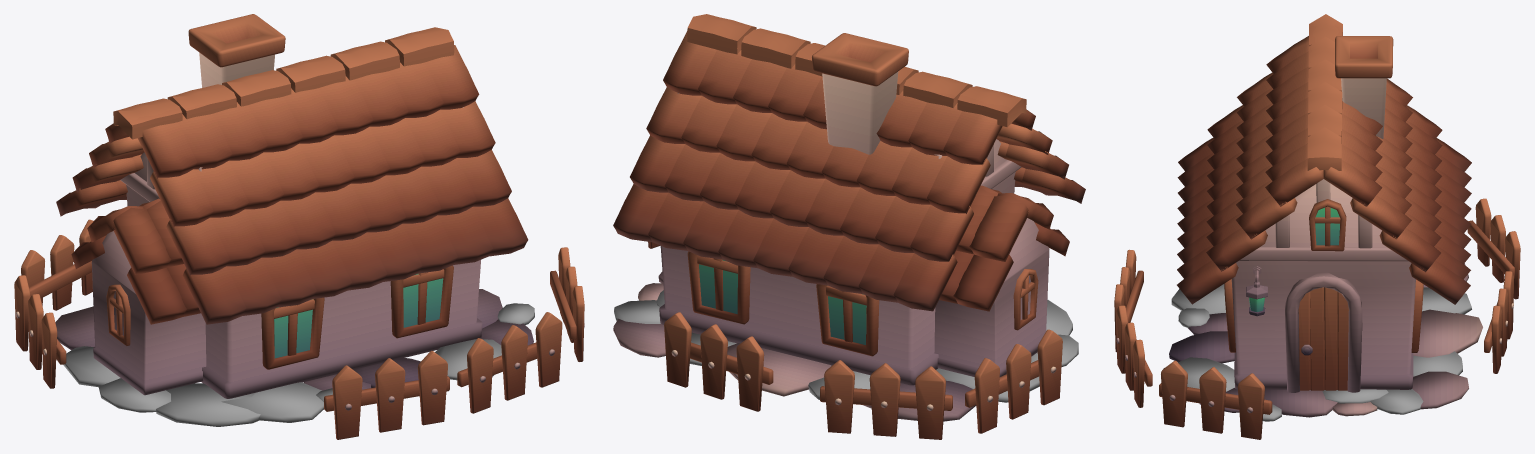
Rendered from house.fbx.
3 renders of one model, left to right at view 1: azimuth 30°, elevation 25°; view 2: azimuth 150°, elevation 25°; view 3: azimuth 270°, elevation 25°, orthographic. The views are drawn at different scales.
Parts seen in each view (by area): view 1: house, light; view 2: house, light; view 3: house, light.
Boxes of the visible parts, bbox=[...] form: house: bbox=[14, 14, 584, 439]; light: bbox=[274, 273, 443, 358]; house: bbox=[613, 14, 1085, 439]; light: bbox=[699, 260, 866, 344]; house: bbox=[1114, 14, 1520, 439]; light: bbox=[1249, 207, 1339, 308].
Bounding box in the file's own units: 5.16 × 3.21 × 4.34.
